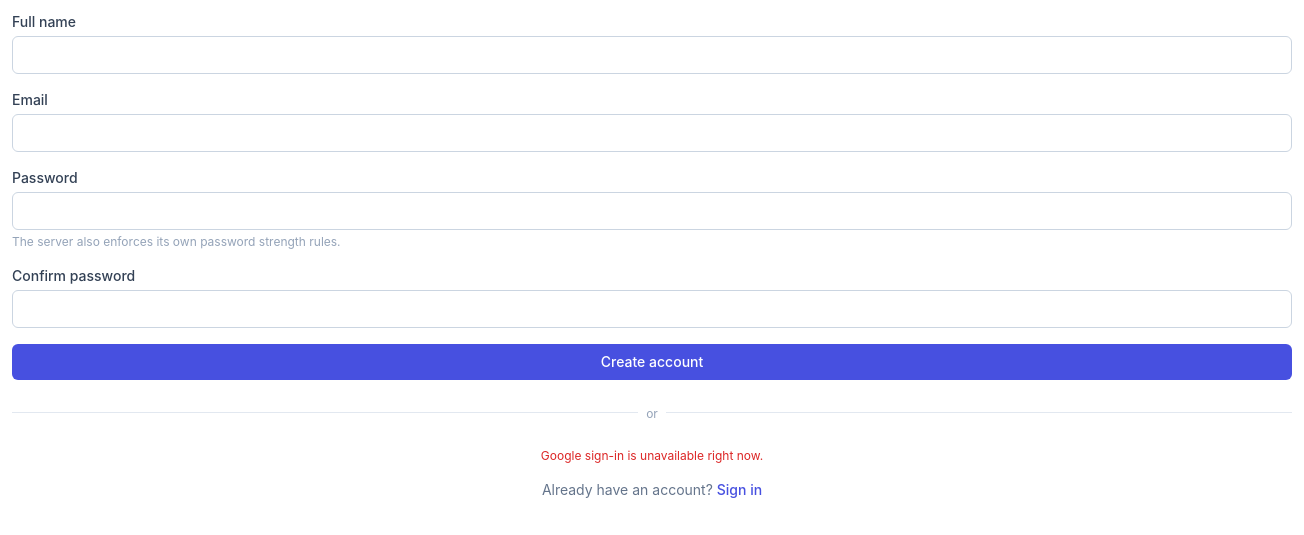
Test: RegisterForm › rejects a password under 8 characters
Type "short" into the password field labelled "Password" at [652, 211], box [12,192,1292,230]
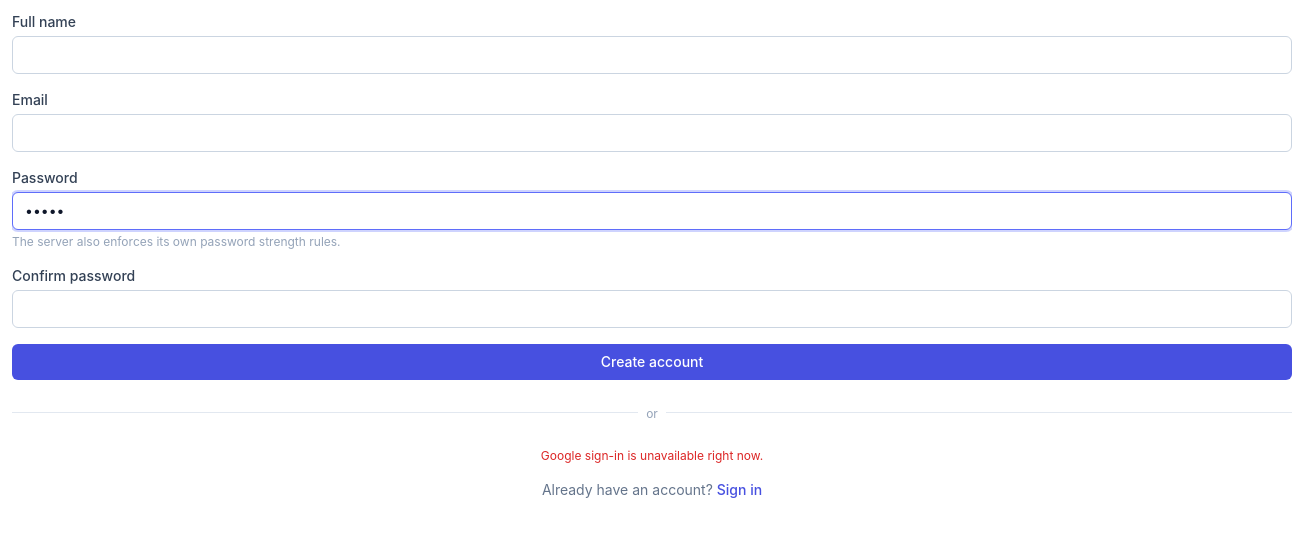
Press Tab
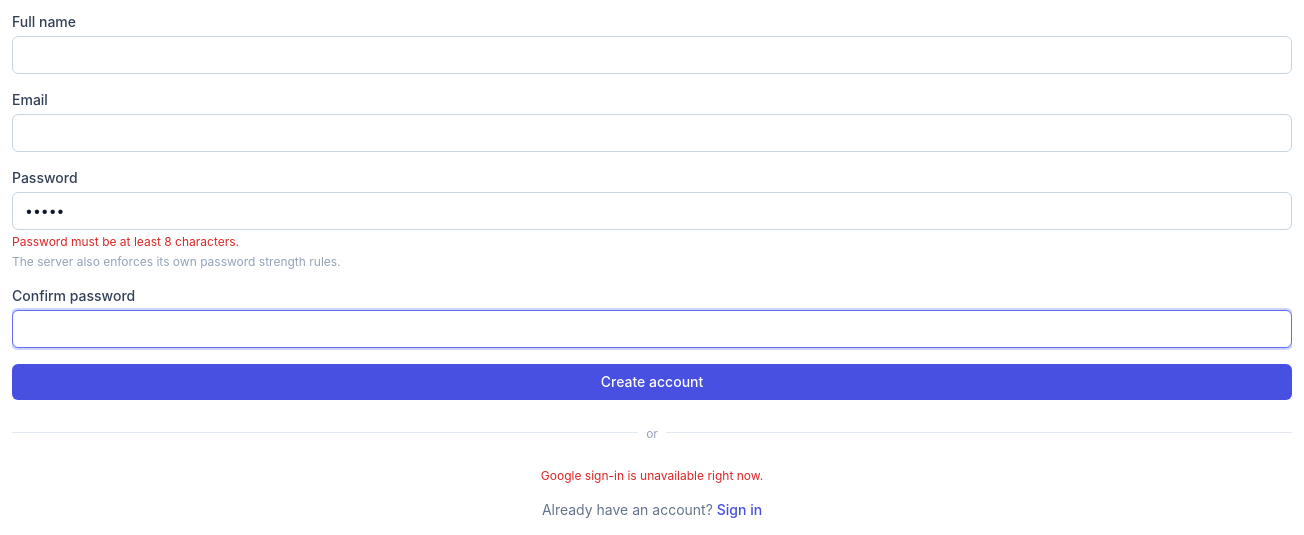
Check: the text "Password must be at least 8 characters." is shown, box [12,234,239,249]
